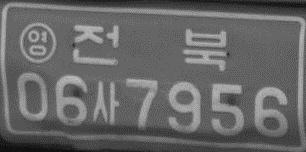0: (16, 71, 49, 123)
5: (210, 81, 245, 137)
6: (253, 86, 290, 139), (54, 74, 88, 127)
7: (125, 76, 159, 133)
9: (167, 80, 202, 135)
사: (90, 80, 120, 125)
영: (18, 20, 57, 64)
전북_D: (72, 23, 229, 72)
